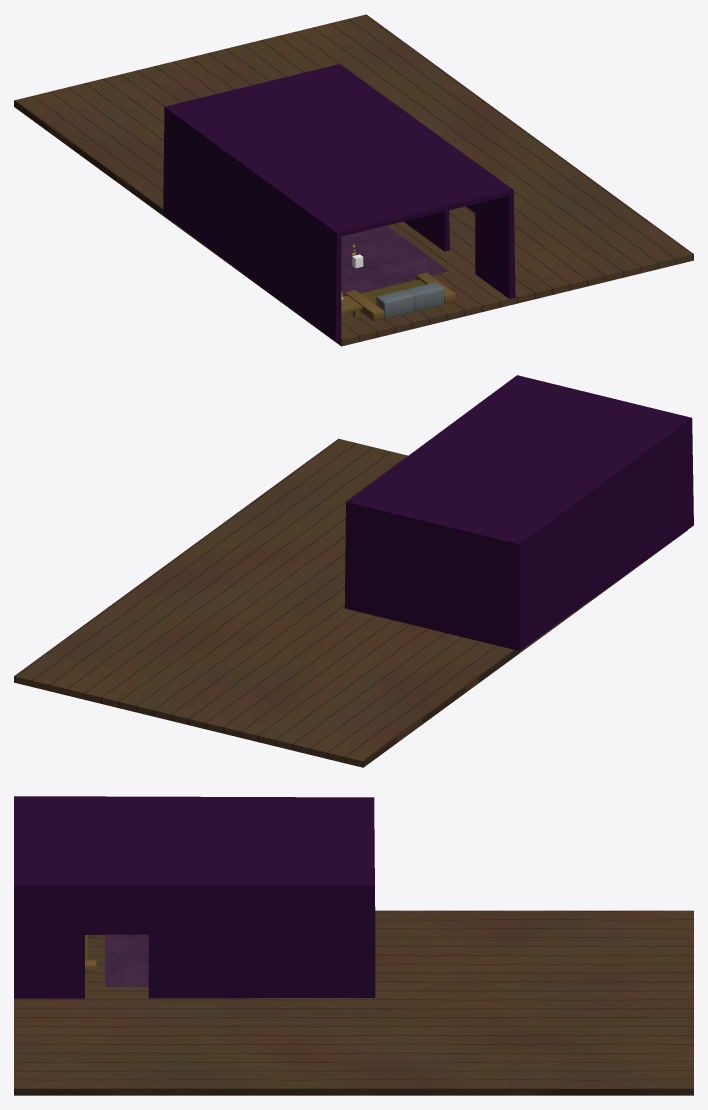
Rendered from cinema.glb.
The picture shows the model from 3 angles, top to bottom: view 1: azimuth 30°, elevation 25°; view 2: azimuth 150°, elevation 25°; view 3: azimuth 270°, elevation 25°; orthographic projection. The views are drawn at different scales.
Visible parts, largest first — view 1: Floor, Walls, Carpet, Sofa.Pillows, Sofa.Armrests; view 2: Floor, Walls; view 3: Floor, Walls, Carpet.
Part boxes in pixels (box(x1,y1,x2,y2)): Floor: box(14, 14, 693, 346); Walls: box(163, 64, 515, 341); Carpet: box(341, 225, 448, 296); Sofa.Pillows: box(376, 282, 444, 318); Sofa.Armrests: box(345, 272, 455, 321); Floor: box(14, 438, 687, 767); Walls: box(344, 375, 693, 650); Floor: box(14, 910, 693, 1095); Walls: box(14, 796, 375, 998); Carpet: box(105, 934, 148, 986).
Bounding box in the file's own units: 42.71 × 13.03 × 67.55.
Materials: 15 (3 with a texture image).
